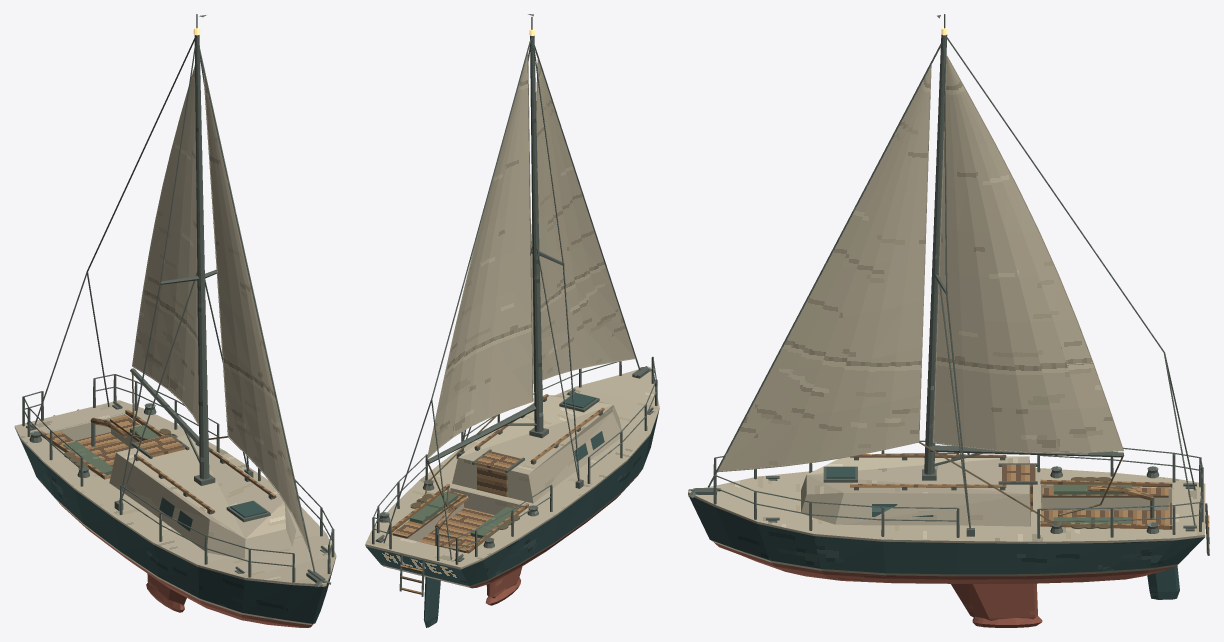
The model's file is alder-sloop.glb.
3 views of the same model, side by side, from view 1: azimuth 30°, elevation 25°; view 2: azimuth 150°, elevation 25°; view 3: azimuth 270°, elevation 25° (orthographic). The views are drawn at different scales.
Parts seen in each view (by area): view 1: deck_and_cockpit, cabin_trunk, Working jib, Cambered mainsail, hull, mast_and_standing_rig, sail_jib, sail_main; view 2: Cambered mainsail, deck_and_cockpit, Working jib, cabin_trunk, mast_and_standing_rig, hull, sail_main, rudder_pivot, sign_name; view 3: Cambered mainsail, Working jib, hull, deck_and_cockpit, cabin_trunk, mast_and_standing_rig, sail_main, rudder_pivot, sail_jib, running_rig.
Part boxes in pixels (left/top/right/bottom): deck_and_cockpit: left=15, top=374, right=336, bottom=587; cabin_trunk: left=109, top=433, right=296, bottom=558; Working jib: left=204, top=76, right=308, bottom=548; Cambered mainsail: left=133, top=69, right=198, bottom=424; hull: left=14, top=413, right=336, bottom=627; mast_and_standing_rig: left=34, top=14, right=315, bottom=572; sail_jib: left=203, top=72, right=309, bottom=551; sail_main: left=132, top=65, right=198, bottom=425; Cambered mainsail: left=428, top=56, right=532, bottom=456; deck_and_cockpit: left=365, top=356, right=659, bottom=596; Working jib: left=531, top=61, right=635, bottom=382; cabin_trunk: left=452, top=392, right=622, bottom=503; mast_and_standing_rig: left=383, top=14, right=640, bottom=559; hull: left=365, top=408, right=659, bottom=605; sail_main: left=427, top=53, right=533, bottom=458; rudder_pivot: left=423, top=495, right=468, bottom=627; sign_name: left=373, top=549, right=462, bottom=580; Cambered mainsail: left=934, top=58, right=1122, bottom=452; Working jib: left=718, top=67, right=930, bottom=471; hull: left=688, top=485, right=1205, bottom=627; deck_and_cockpit: left=688, top=440, right=1209, bottom=555; cabin_trunk: left=801, top=454, right=1037, bottom=526; mast_and_standing_rig: left=708, top=14, right=1195, bottom=536; sail_main: left=933, top=55, right=1123, bottom=453; rudder_pivot: left=1087, top=486, right=1179, bottom=599; sail_jib: left=717, top=65, right=931, bottom=472; running_rig: left=918, top=441, right=1124, bottom=526.
Size of the model in its own units: 2.94 by 11.21 by 8.68.
Materials: 11 (11 with a texture image).
